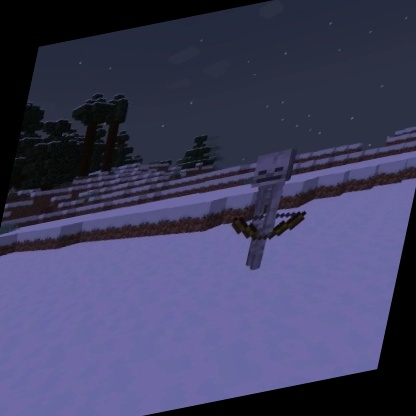skeleton: (217, 138, 325, 280)
